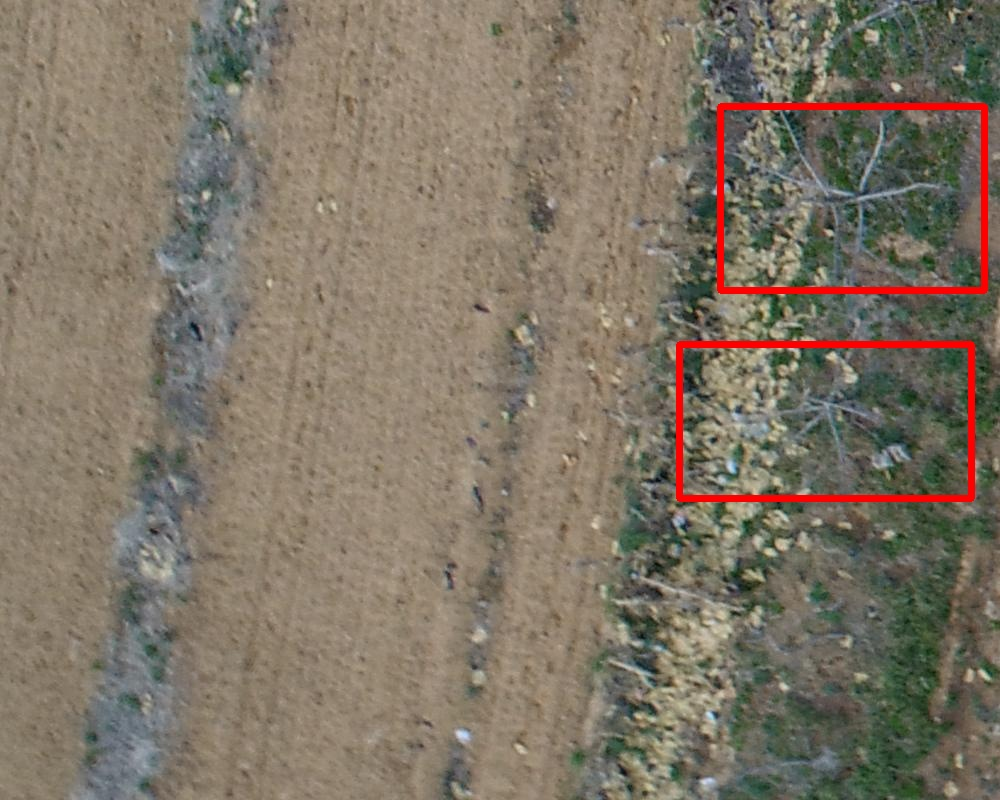apple: (720, 106, 984, 290), (679, 344, 971, 498)
